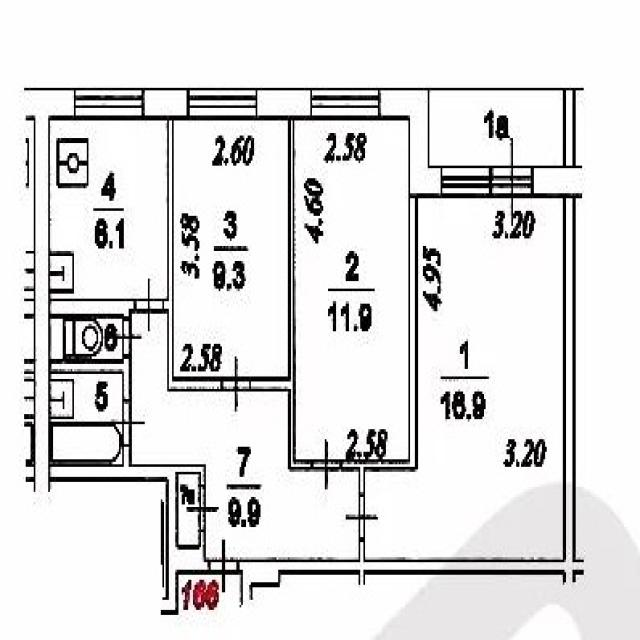Bathrooms: (51, 375, 122, 465), (51, 317, 122, 358), (22, 374, 34, 464), (23, 317, 33, 357)
Corridors: (132, 314, 359, 559), (429, 89, 562, 164), (179, 475, 197, 544)
Doors: (492, 136, 534, 228), (220, 352, 251, 413), (209, 537, 240, 596), (185, 485, 222, 534), (134, 275, 164, 332), (311, 437, 342, 491), (112, 400, 147, 447), (346, 493, 378, 542), (115, 317, 142, 356)
LBwalls: (23, 87, 75, 494), (379, 87, 442, 199), (563, 198, 575, 584), (256, 87, 311, 120), (532, 165, 583, 197), (144, 86, 189, 120), (51, 298, 123, 315), (242, 560, 282, 588), (562, 87, 576, 166), (176, 546, 205, 575), (24, 298, 34, 319)
Offices: (365, 199, 564, 559), (296, 120, 409, 460), (174, 121, 288, 376), (50, 120, 167, 299), (23, 119, 34, 298)
Walls: (341, 196, 419, 495), (250, 120, 312, 473), (163, 120, 221, 391), (281, 540, 564, 575), (160, 464, 206, 616), (50, 354, 132, 402), (50, 465, 168, 481), (239, 588, 252, 611), (123, 298, 135, 317), (25, 463, 36, 482), (123, 447, 132, 466), (574, 559, 584, 575), (24, 358, 34, 373), (198, 532, 206, 546), (358, 574, 365, 586)
Windows: (187, 87, 258, 121), (74, 87, 145, 119), (311, 88, 381, 119), (441, 165, 492, 198)
